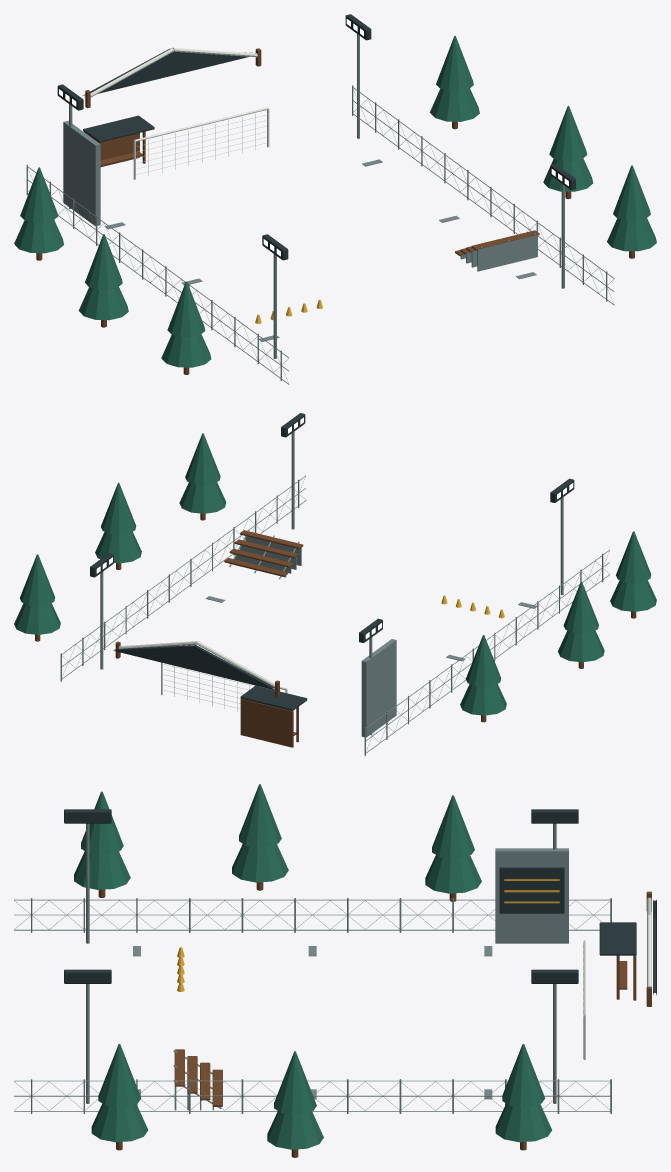
The model's file is salmon_creek_opening_foundry.glb.
3 renders of one model, top to bottom at view 1: azimuth 30°, elevation 25°; view 2: azimuth 150°, elevation 25°; view 3: azimuth 270°, elevation 25°, orthographic. The views are drawn at different scales.
Visible parts, largest first — view 1: OpeningKit_PNW_Evergreen, OpeningKit_Rain_Municipal_Steel, OpeningKit_Storm_Charcoal, OpeningKit_Rain_Darkened_Cedar, OpeningKit_Field_Cream, OpeningKit_Goal_Rope; view 2: OpeningKit_PNW_Evergreen, OpeningKit_Rain_Municipal_Steel, OpeningKit_Storm_Charcoal, OpeningKit_Rain_Darkened_Cedar, OpeningKit_Field_Cream, OpeningKit_Goal_Rope; view 3: OpeningKit_PNW_Evergreen, OpeningKit_Rain_Municipal_Steel, OpeningKit_Storm_Charcoal, OpeningKit_Rain_Darkened_Cedar, OpeningKit_Field_Cream, OpeningKit_Tennis_Safety_Yellow.
Boxes of the visible parts, x1,y1,x2,y2 form: OpeningKit_PNW_Evergreen: (14,36,656,367); OpeningKit_Rain_Municipal_Steel: (26,34,614,384); OpeningKit_Storm_Charcoal: (57,14,575,260); OpeningKit_Rain_Darkened_Cedar: (36,48,634,374); OpeningKit_Field_Cream: (90,47,269,179); OpeningKit_Goal_Rope: (135,110,268,178); OpeningKit_PNW_Evergreen: (14,433,656,715); OpeningKit_Rain_Municipal_Steel: (60,431,609,755); OpeningKit_Storm_Charcoal: (90,413,574,710); OpeningKit_Rain_Darkened_Cedar: (35,513,636,747); OpeningKit_Field_Cream: (118,641,287,695); OpeningKit_Goal_Rope: (164,664,254,711); OpeningKit_PNW_Evergreen: (74,784,551,1149); OpeningKit_Rain_Municipal_Steel: (14,823,611,1113); OpeningKit_Storm_Charcoal: (64,809,656,995); OpeningKit_Rain_Darkened_Cedar: (98,882,651,1157); OpeningKit_Field_Cream: (583,897,651,1059); OpeningKit_Tennis_Safety_Yellow: (177,879,559,991).
Size of the model in its own units: 39.27 by 8.37 by 36.62.
